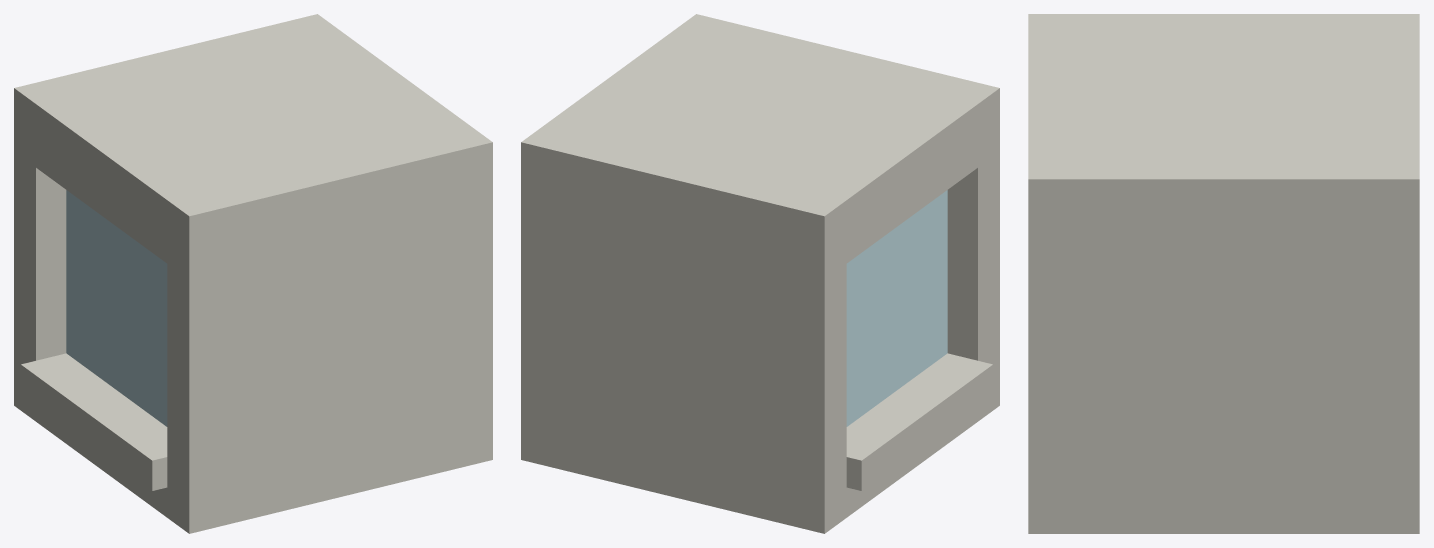
File: Building Story 19.fbx
3 views of the same model, side by side, from view 1: azimuth 30°, elevation 25°; view 2: azimuth 150°, elevation 25°; view 3: azimuth 270°, elevation 25° (orthographic). The views are drawn at different scales.
Visible parts, largest first — view 1: Building Story 19; view 2: Building Story 19; view 3: Building Story 19.
Part boxes in pixels (<box>): Building Story 19: <box>14,14,492,533</box>; Building Story 19: <box>521,14,999,533</box>; Building Story 19: <box>1028,14,1419,533</box>.
Bounding box in the file's own units: 1.05 × 1 × 1.
